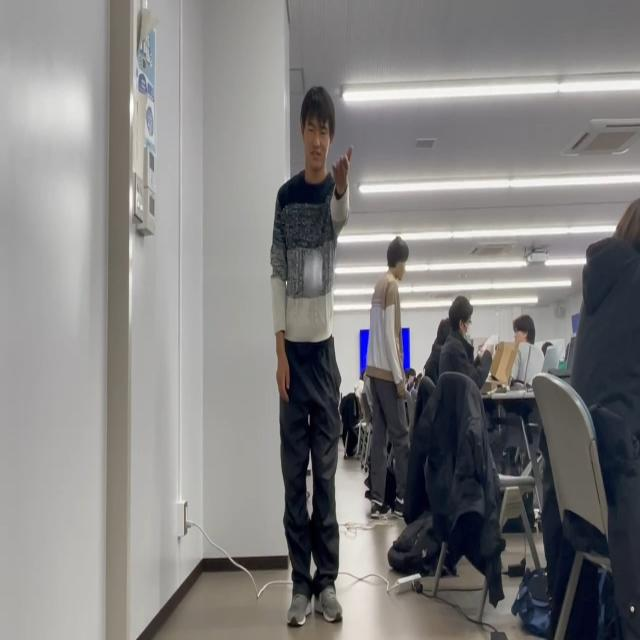paper: (303, 246, 323, 296)
